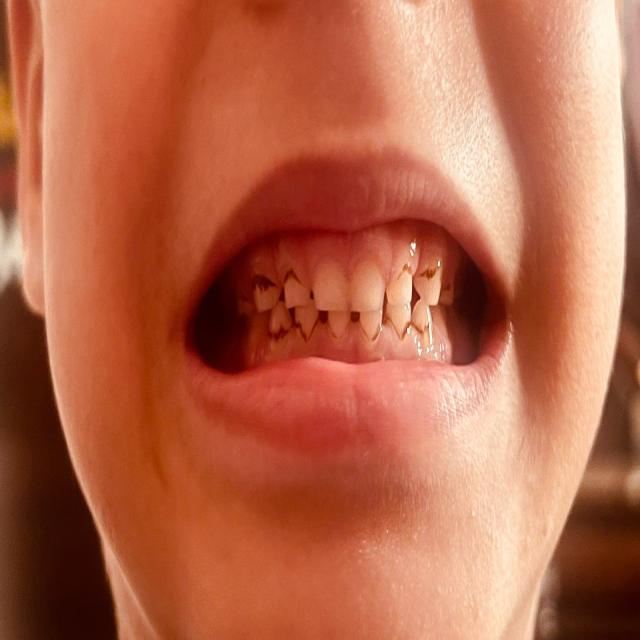tooth: (316, 272, 344, 310), (353, 266, 379, 305), (417, 266, 438, 304), (390, 280, 410, 312), (418, 305, 435, 341), (285, 274, 304, 306), (254, 279, 275, 306), (364, 310, 380, 340), (334, 310, 350, 339), (270, 310, 289, 334), (300, 310, 316, 335), (389, 308, 405, 333)
